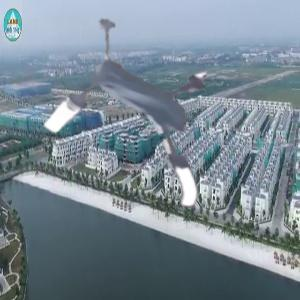drone: (48, 21, 228, 201)
